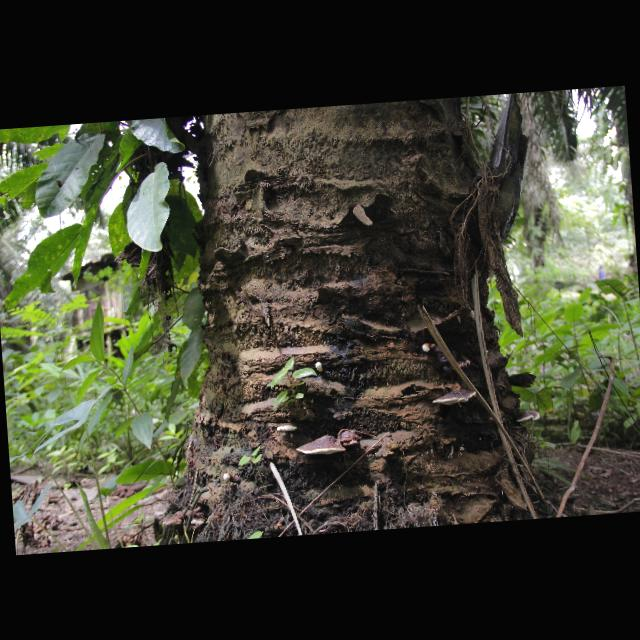ganoderma: (432, 342, 469, 377), (296, 435, 347, 458), (432, 389, 478, 408), (163, 512, 189, 528), (340, 431, 362, 448), (516, 411, 541, 425), (190, 514, 207, 527), (278, 424, 300, 434)
primordium: (315, 362, 325, 373), (223, 473, 234, 483), (421, 344, 431, 354), (470, 312, 476, 322), (468, 362, 472, 367)
